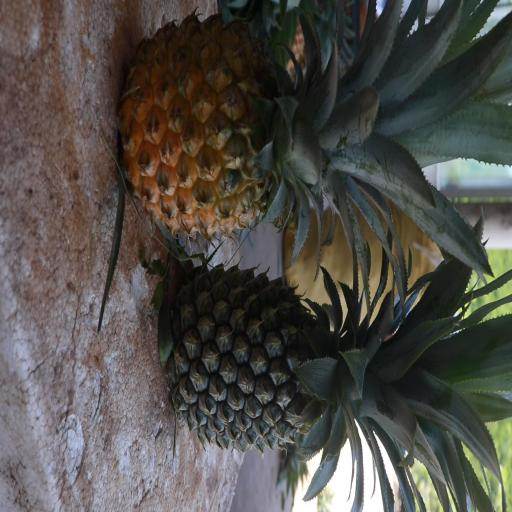Pineapple - v8 v1: (125, 19, 449, 237)
